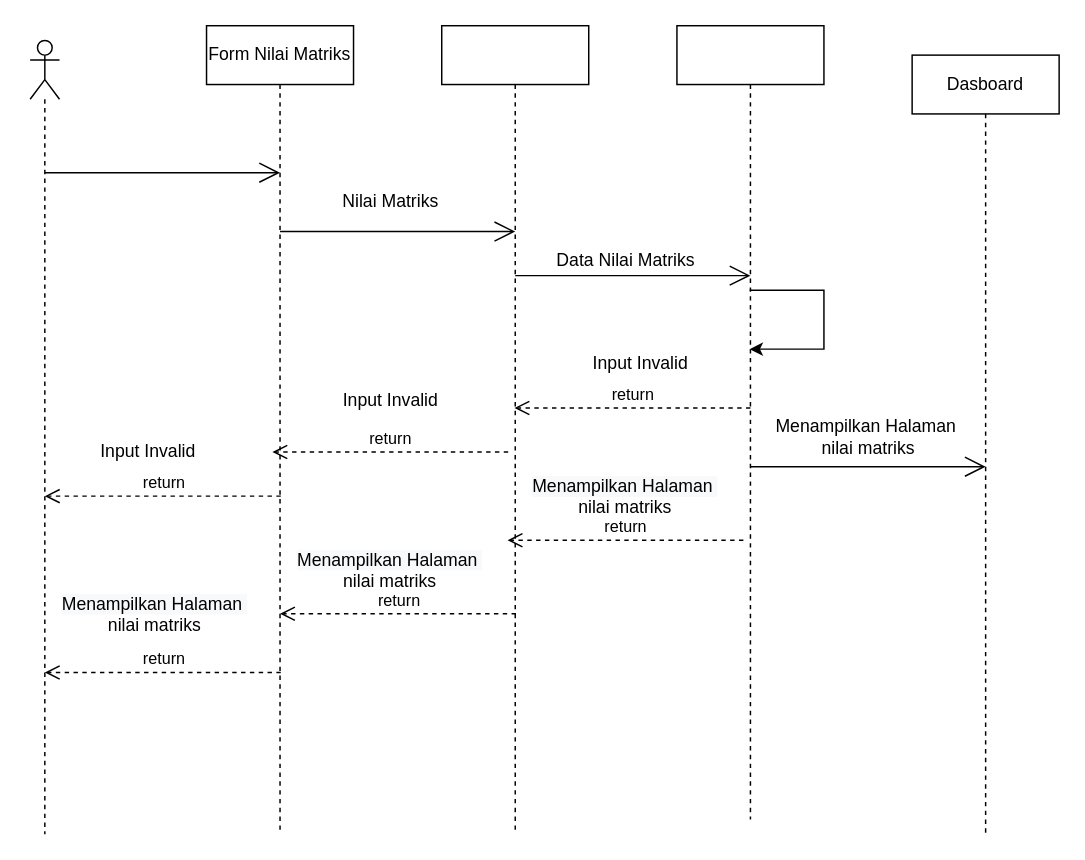
This 1085x860 diagram has some shape labels left out. The box of each missing label's shape, as (x1, y1, x2, y2) in pixels:
Database: (675, 24, 824, 820)
Sistem: (440, 24, 589, 834)
